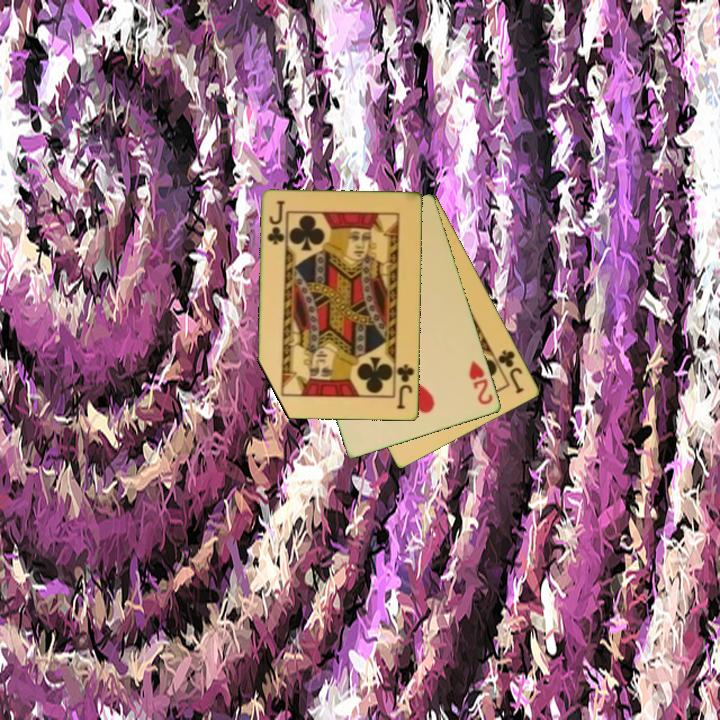2h: (466, 357, 496, 408)
Jc: (495, 346, 527, 397), (394, 361, 417, 412), (264, 197, 287, 248)
